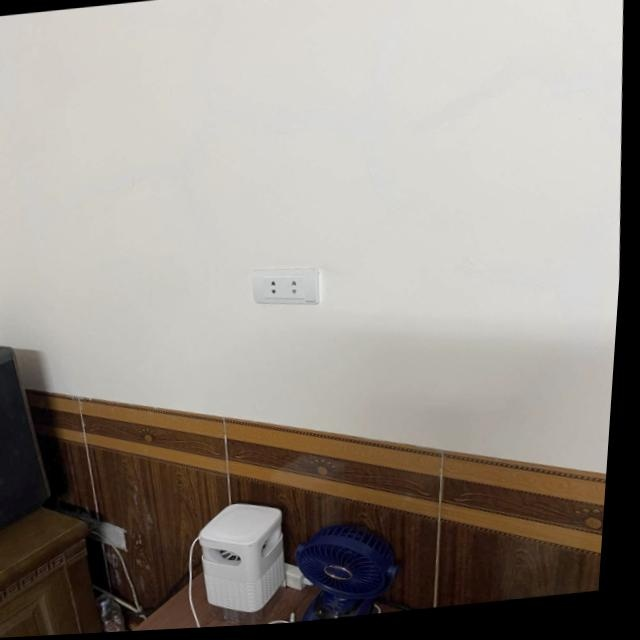outlet: (249, 262, 322, 311)
